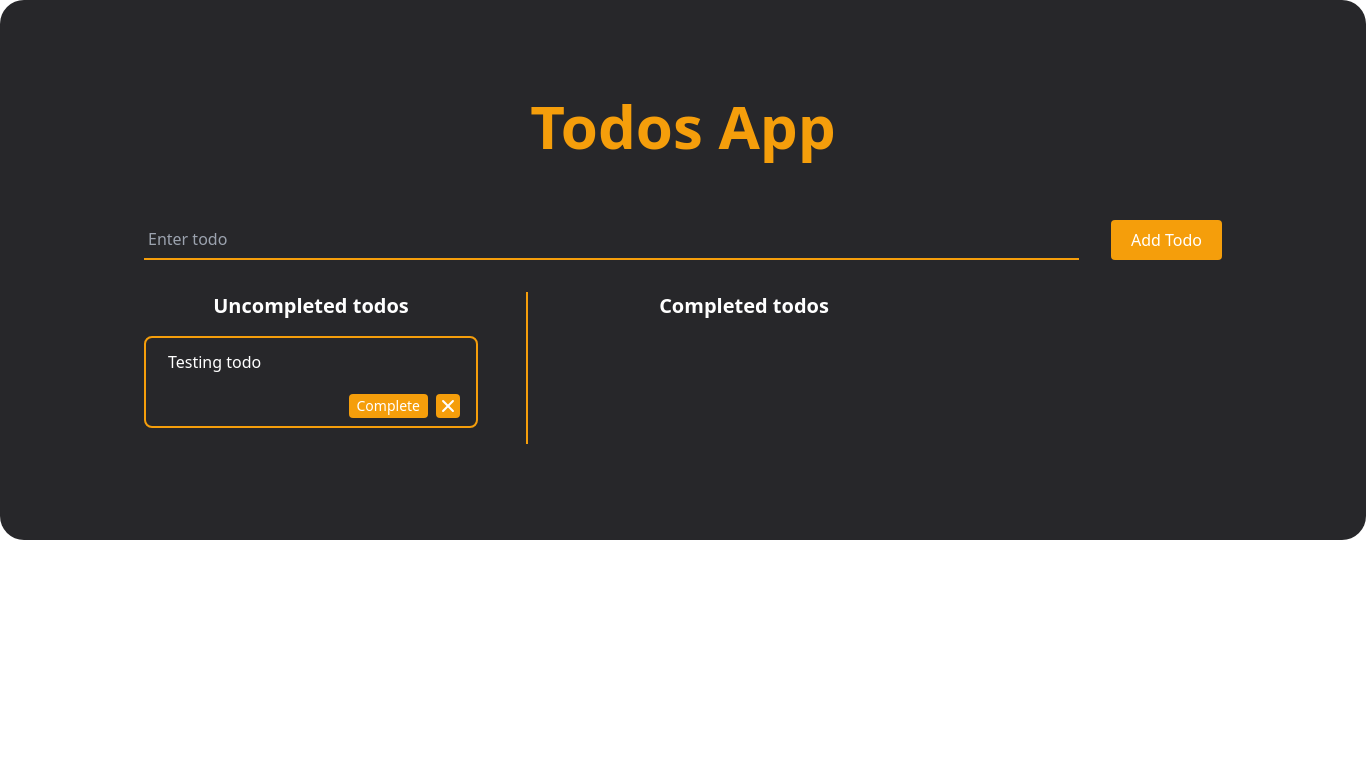
Test: Editing todo
Click the text "Testing todo" at {"x": 215, "y": 362}, box [162,346,267,378]
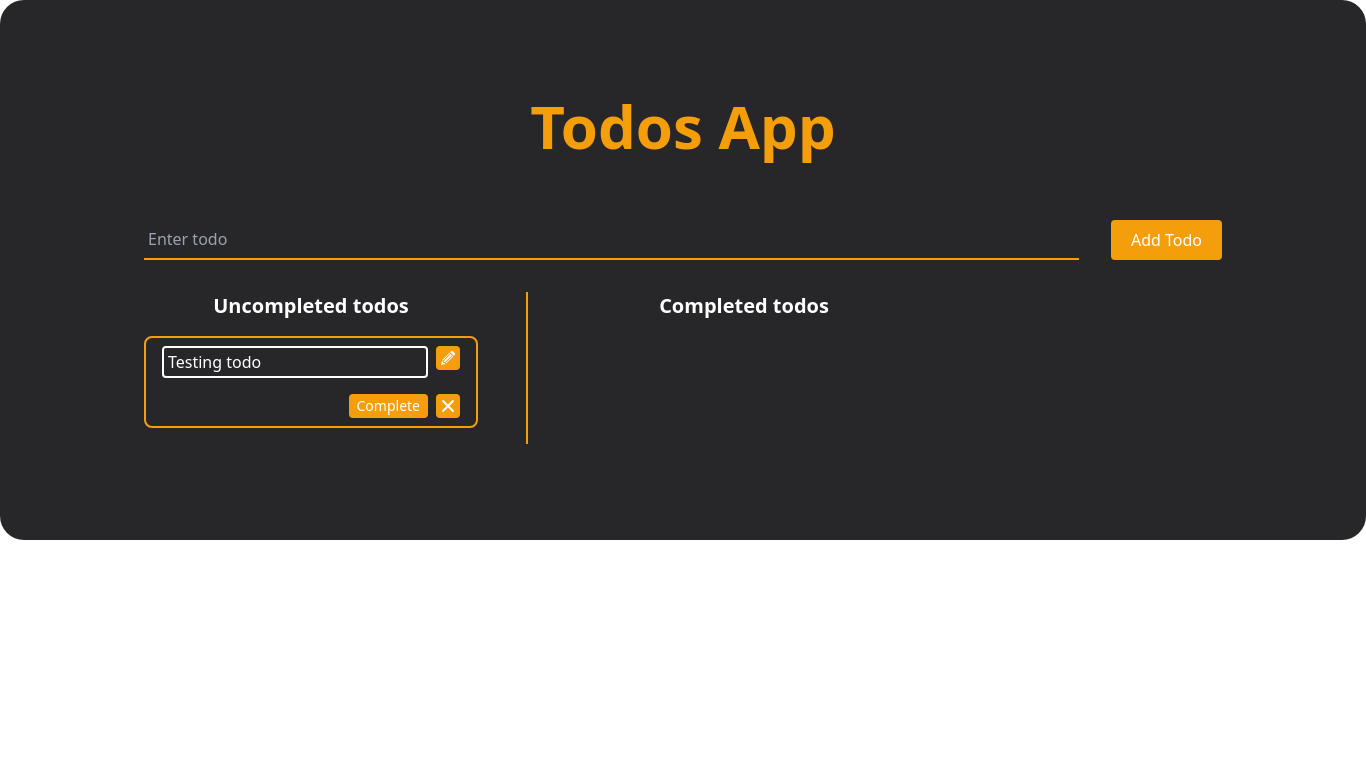
Expected: the field showing "Testing todo" is shown
Replace the text in the field showing "Testing todo" with "Edited Todo" at {"x": 295, "y": 362}, box [162,346,428,378]
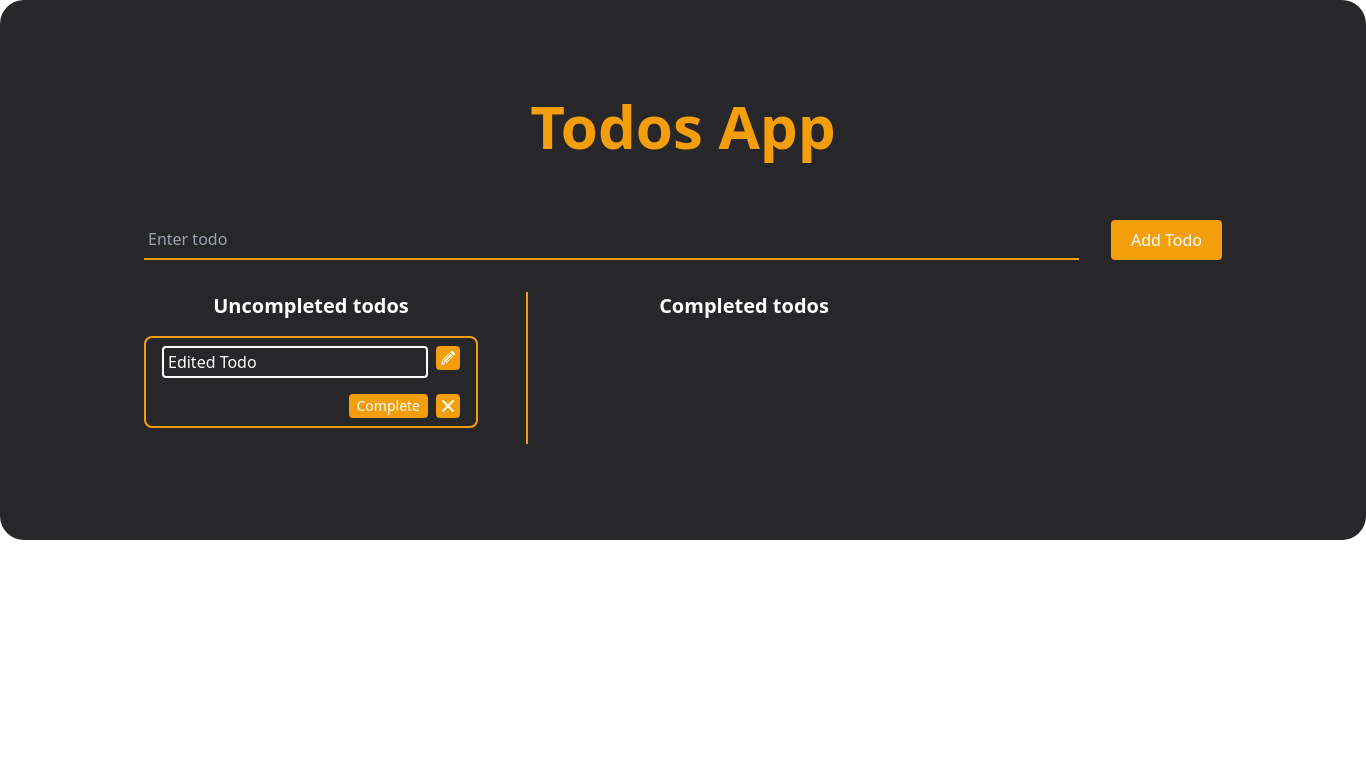
Click the element with test id "edit-icon" at {"x": 448, "y": 358}, box [436,346,460,370]
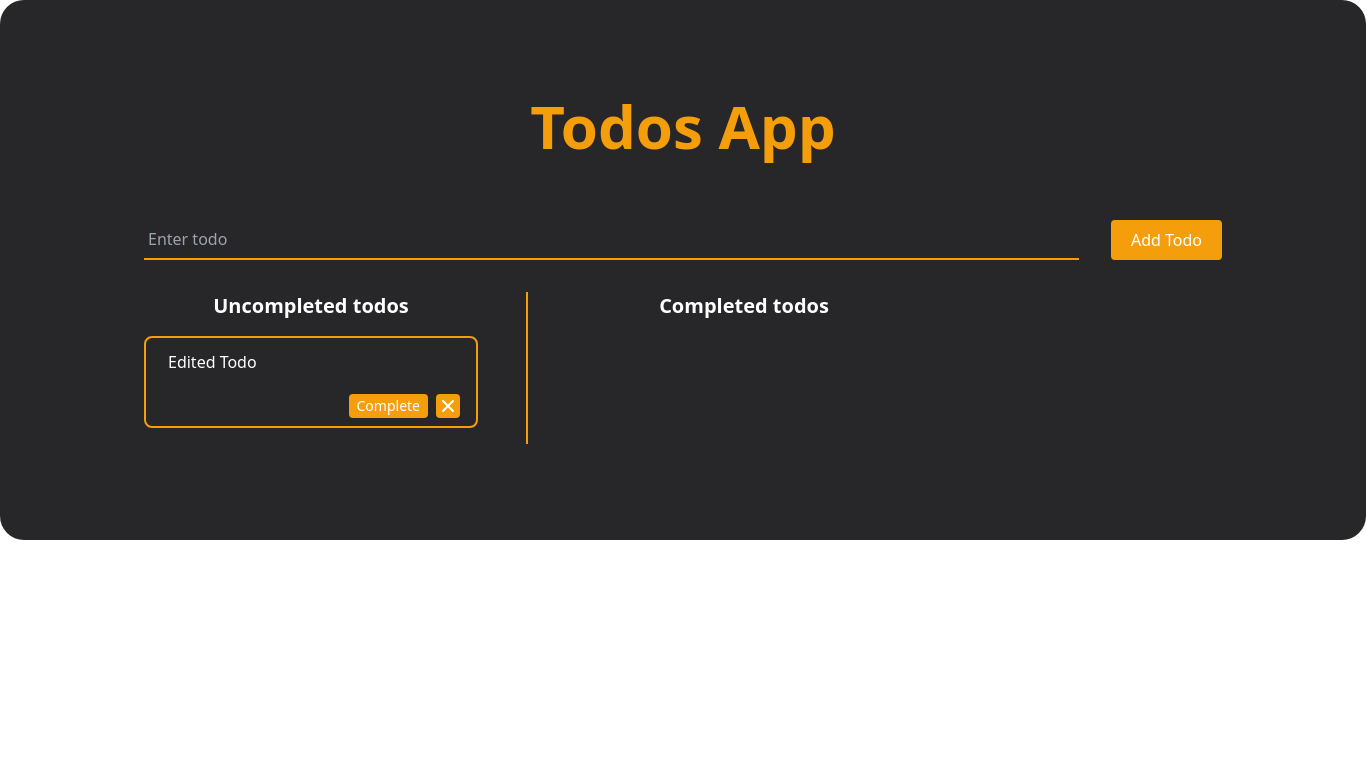
Expected: the label showing "Testing todo" is not shown
Expected: the text "Edited Todo" is shown, [162,346,263,378]
